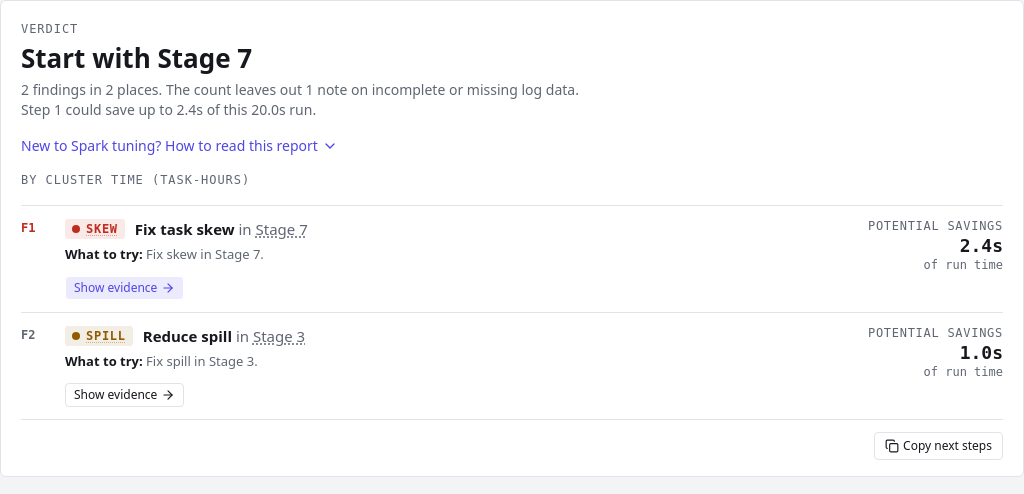
Test: RunVerdict Copy next steps › copies the whole plan as a checklist: run, verdict and numbered steps with their stage, without the log gaps
Click the button with test id "copy-plan-button". click: [938, 446]
box: [874,432,1003,460]
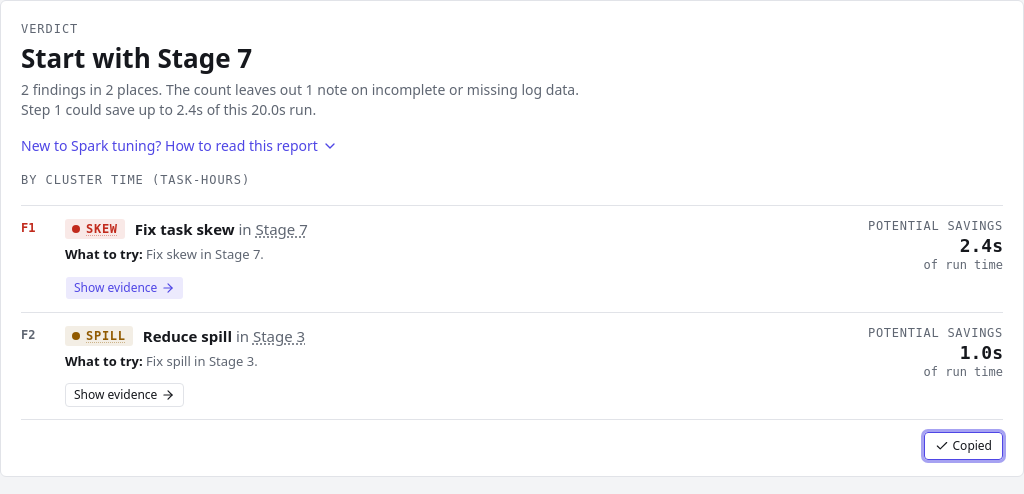
Expected: the button with test id "copy-plan-button" reads "Copied", [924,432,1003,460]
